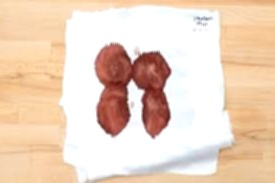blood: (132, 50, 170, 139), (96, 43, 131, 137)
